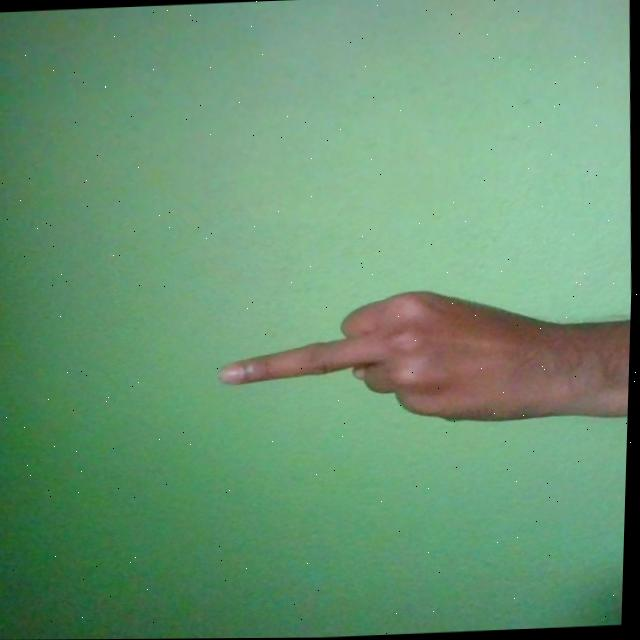Middle Finger: (218, 282, 621, 433)
